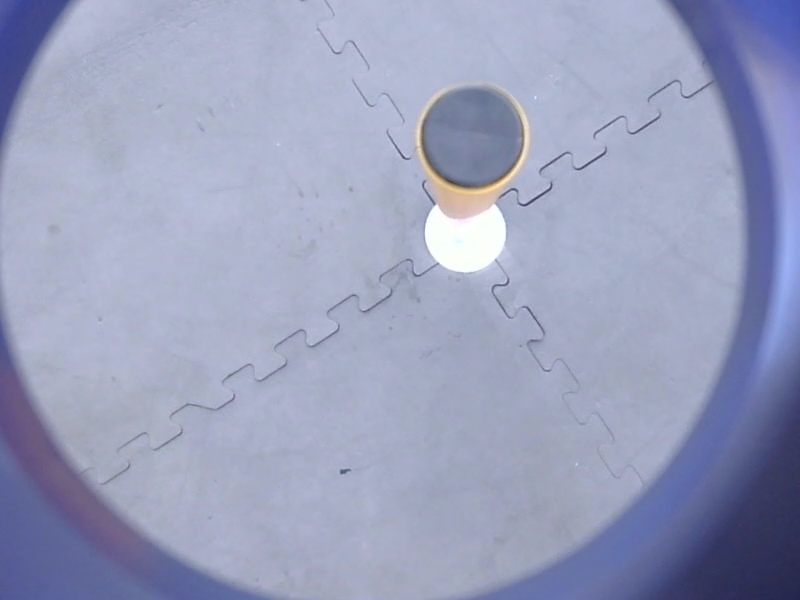tip: (410, 77, 536, 195)
